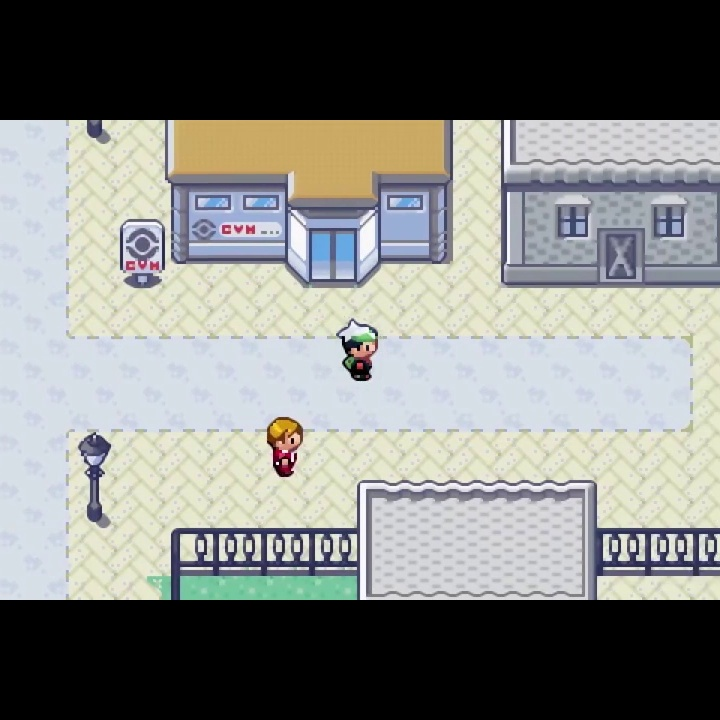gym: (163, 120, 455, 291)
house: (498, 119, 719, 290), (356, 477, 600, 601)
npc: (338, 316, 382, 386), (265, 414, 306, 481)
